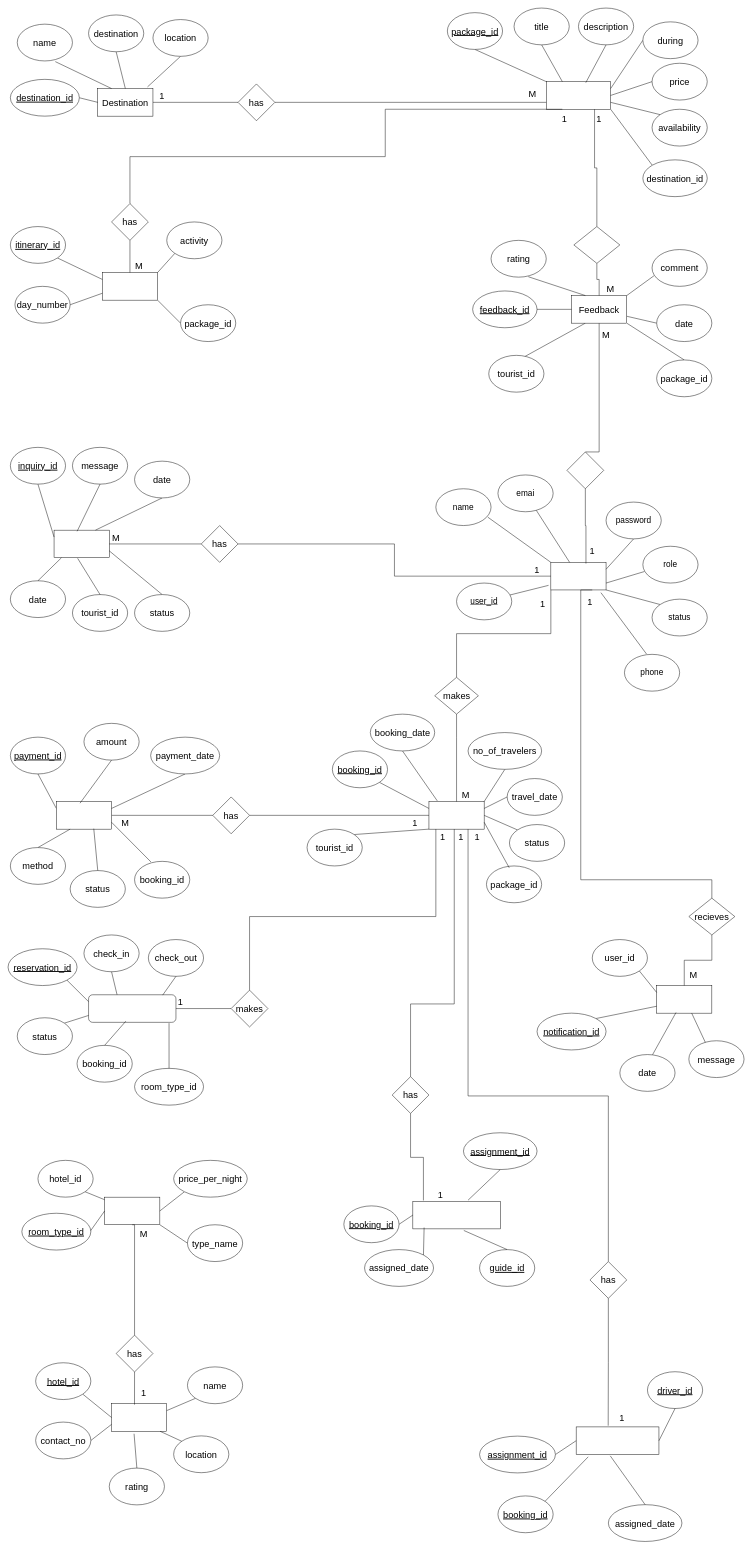
Some shapes in this 752 by 1550 pixel diagram are drawn without their labels. The shapes that lost their labels are listed below. From the top down, each one's centre as x and y in pixels, then its label:
At [578,95]: "Tour_Package".
At [596,244]: "recieve".
At [130,286]: "Itinerary".
At [585,470]: "gives".
At [81,544]: "Inquiry".
At [578,576]: "User".
At [84,815]: "Payment".
At [456,815]: "Booking".
At [132,1008]: "Hotel_Reservation".
At [684,999]: "Notification".
At [132,1211]: "Room_Type".
At [456,1215]: "Guide_Assignment".
At [139,1417]: "Hotel".
At [617,1440]: "Driver_Assignment".
